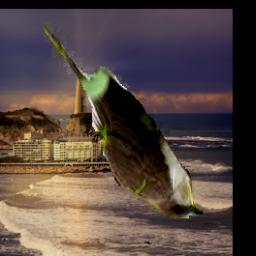Cuckoo: (41, 22, 205, 220)
